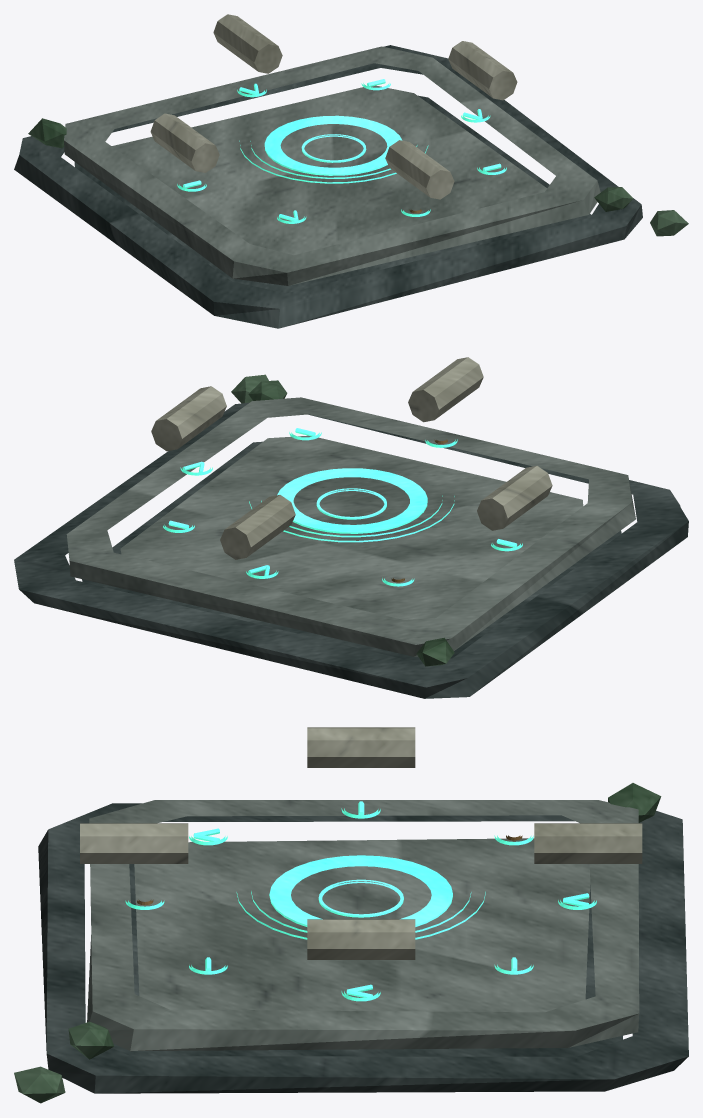
File: 0572_rune_dais_22.glb
3 renders of one model, top to bottom at view 1: azimuth 30°, elevation 25°; view 2: azimuth 150°, elevation 25°; view 3: azimuth 270°, elevation 25°, orthographic. The views are drawn at different scales.
Parts seen in each view (by area): view 1: stone, stone_dark, stone_light, glow, moss; view 2: stone, stone_dark, stone_light, glow, moss; view 3: stone, stone_dark, stone_light, glow, moss.
Boxes of the visible parts, <box> form: stone: <box>64,46,600,285</box>; stone_dark: <box>14,45,642,328</box>; stone_light: <box>150,14,517,199</box>; glow: <box>177,79,506,223</box>; moss: <box>28,118,688,236</box>; stone: <box>66,397,635,656</box>; stone_dark: <box>14,402,688,698</box>; stone_light: <box>151,357,552,559</box>; glow: <box>163,428,522,586</box>; moss: <box>231,374,454,666</box>; stone: <box>87,800,639,1051</box>; stone_dark: <box>38,803,688,1093</box>; stone_light: <box>80,727,642,959</box>; glow: <box>125,801,596,1001</box>; moss: <box>14,783,661,1103</box>.
Bounding box in the file's own units: 3.11 × 0.709 × 3.12.
Materials: 6 (6 with a texture image).
